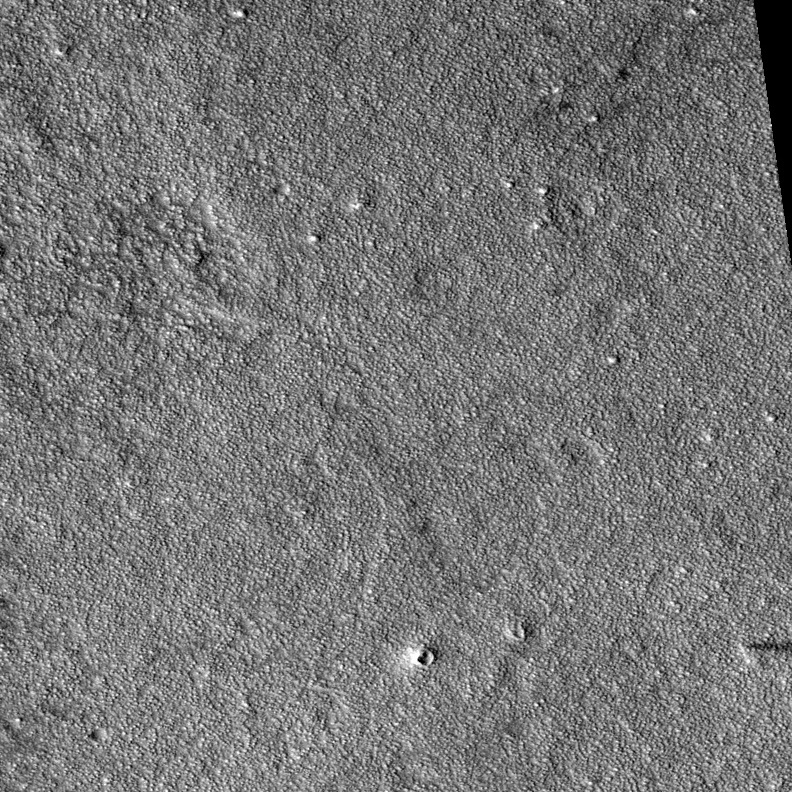dust_devil: (737, 638, 792, 666)
